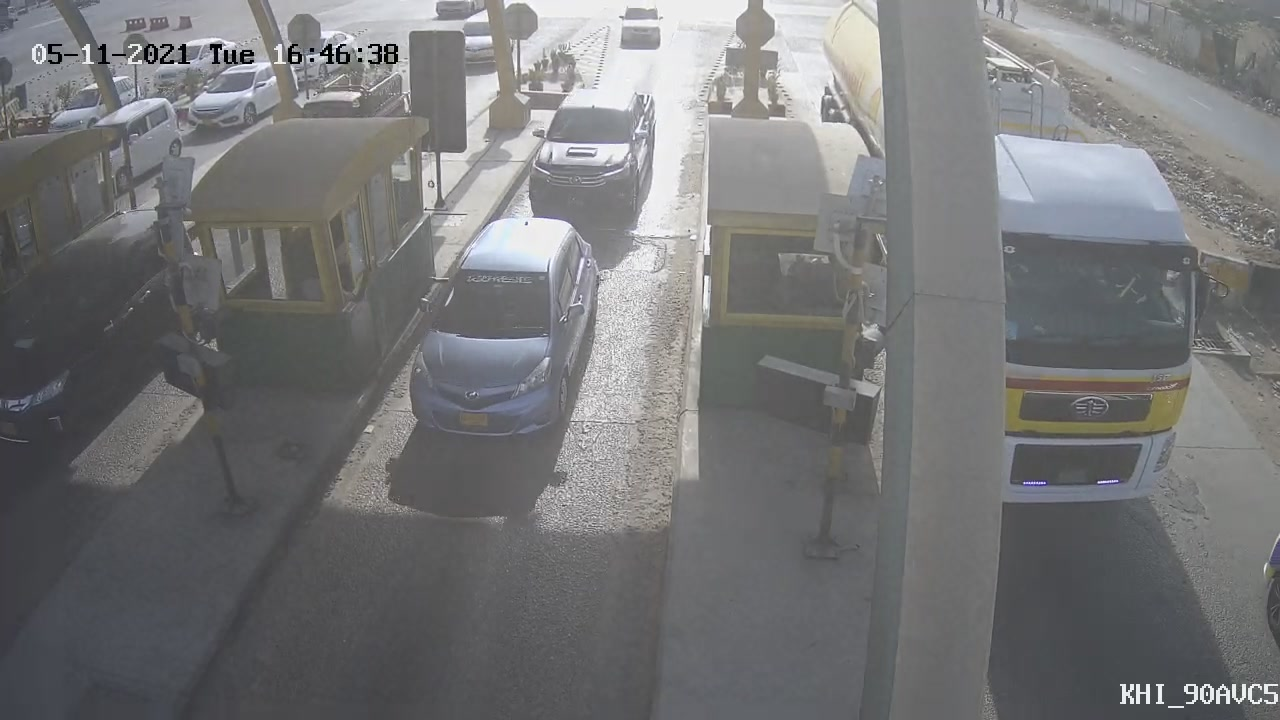F1: (390, 201, 620, 452), (509, 72, 674, 239)
